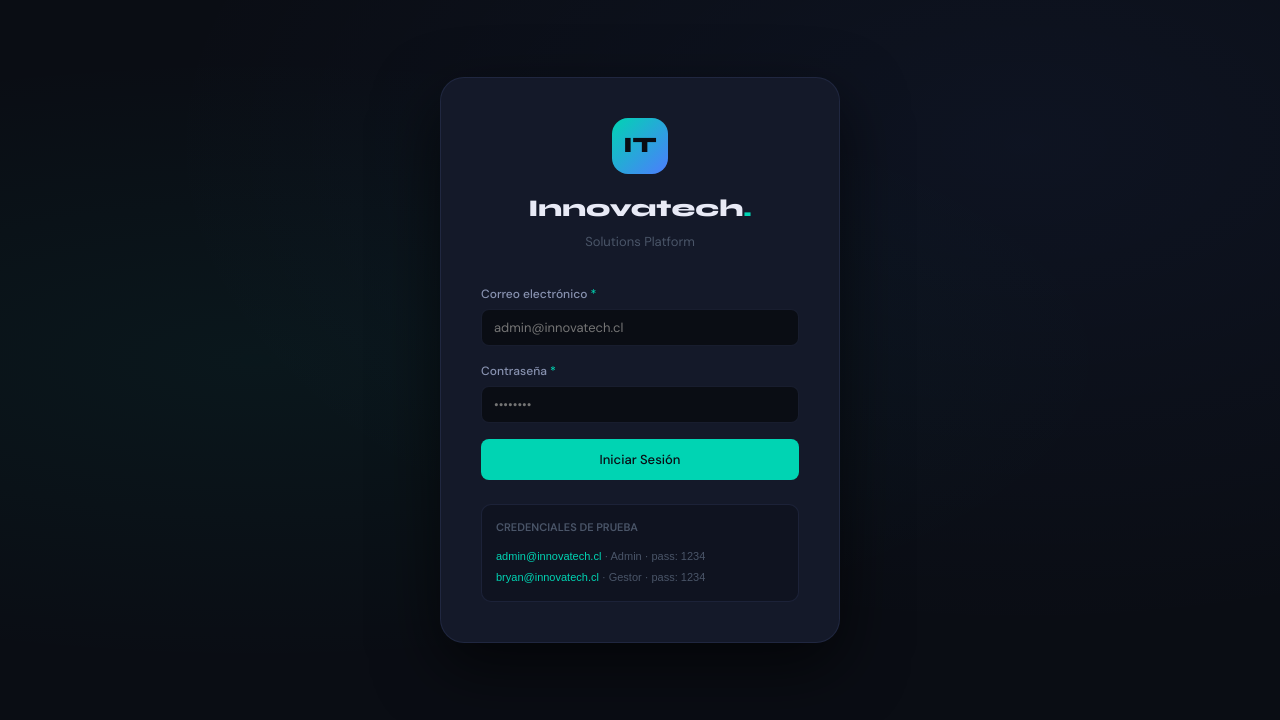
LoginPage › muestra error con credenciales incorrectas
In the field with placeholder "admin@innovatech.cl": (640, 328) [481, 309, 799, 346], type "foo@bar.com"
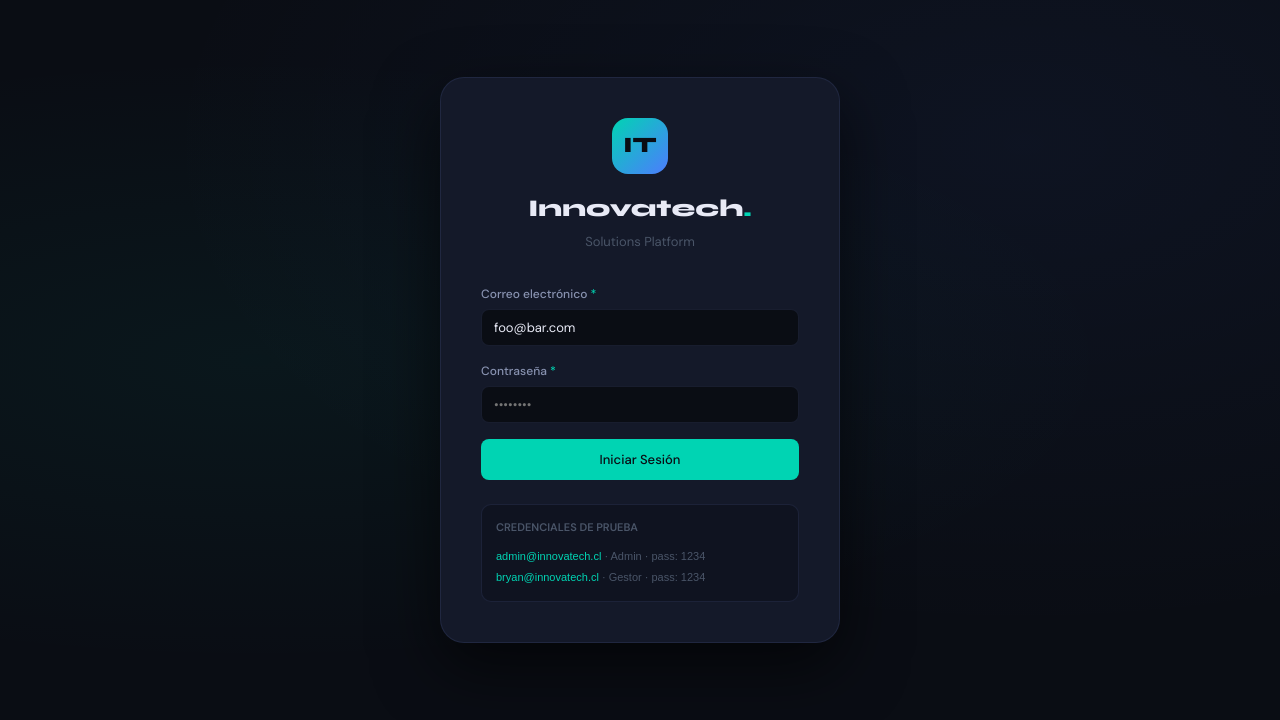
In the password field with placeholder "••••••••": (640, 405) [481, 386, 799, 424], type "wrong"
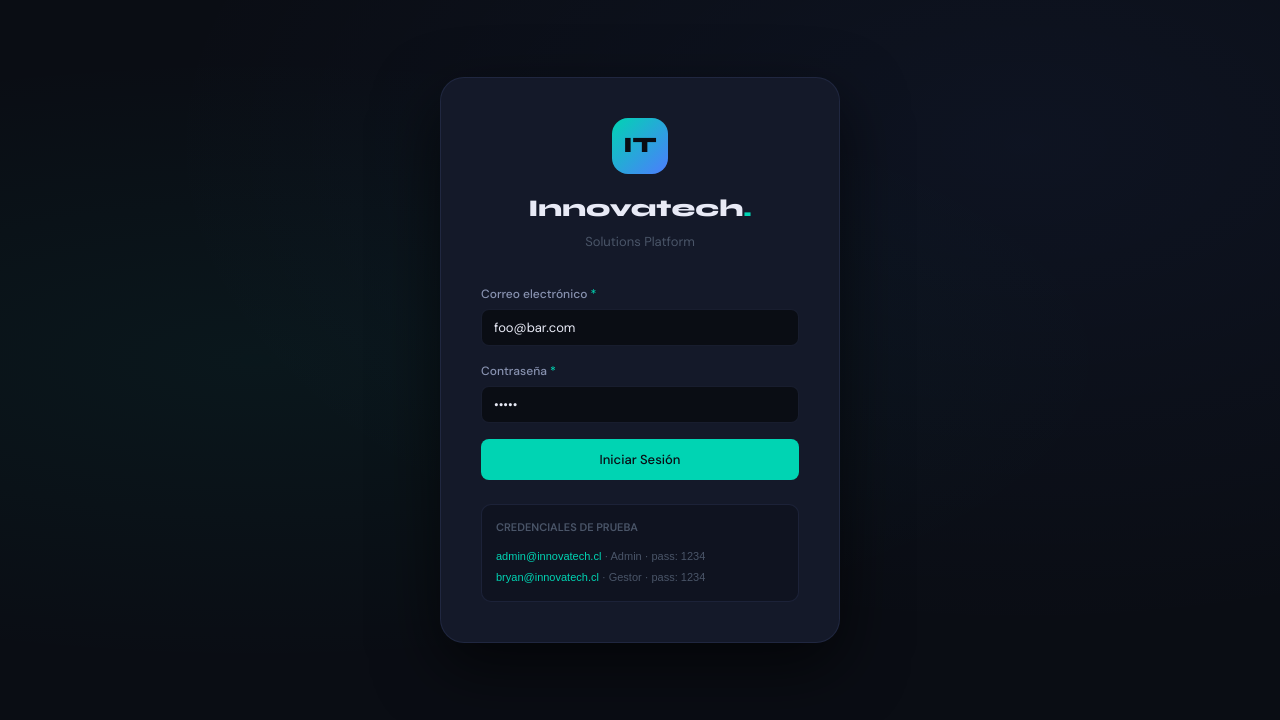
Click the button "Iniciar Sesión": (640, 460) [481, 440, 799, 480]
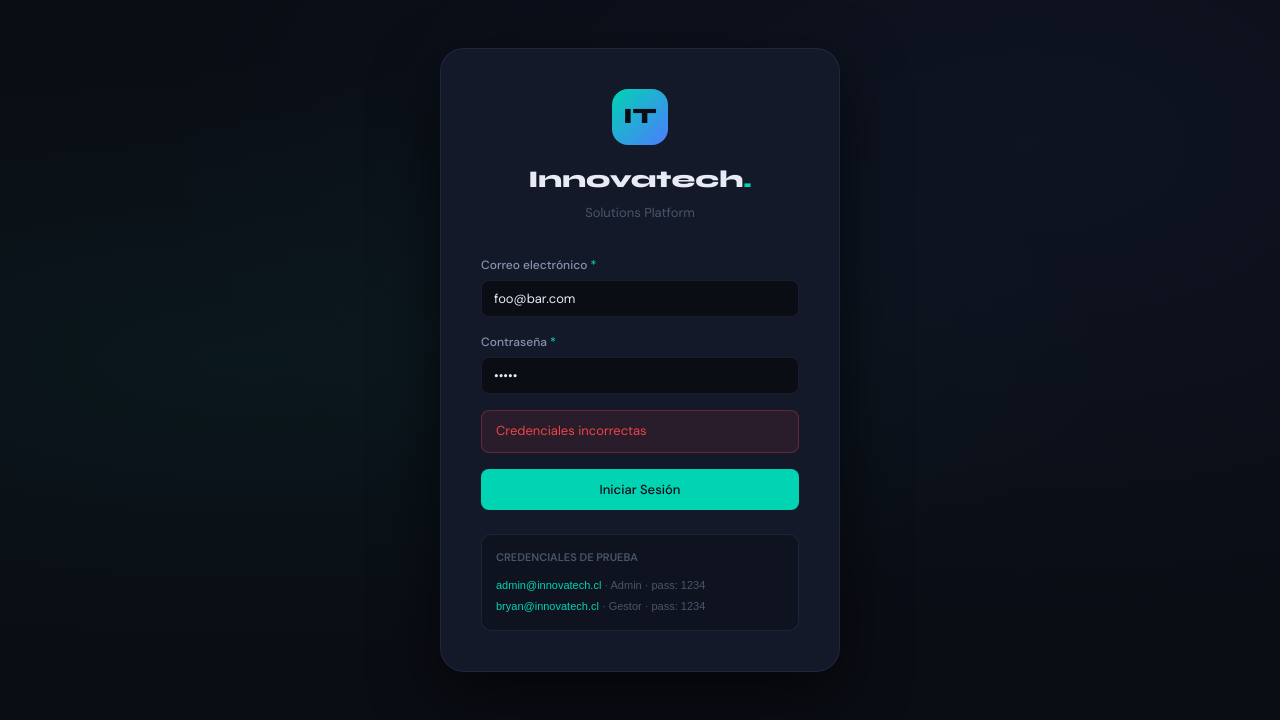
expect the text "Credenciales incorrectas" is shown: met, box [481, 410, 799, 453]
